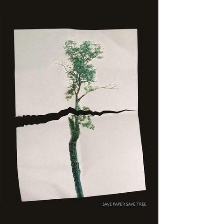book: (9, 24, 148, 202)
